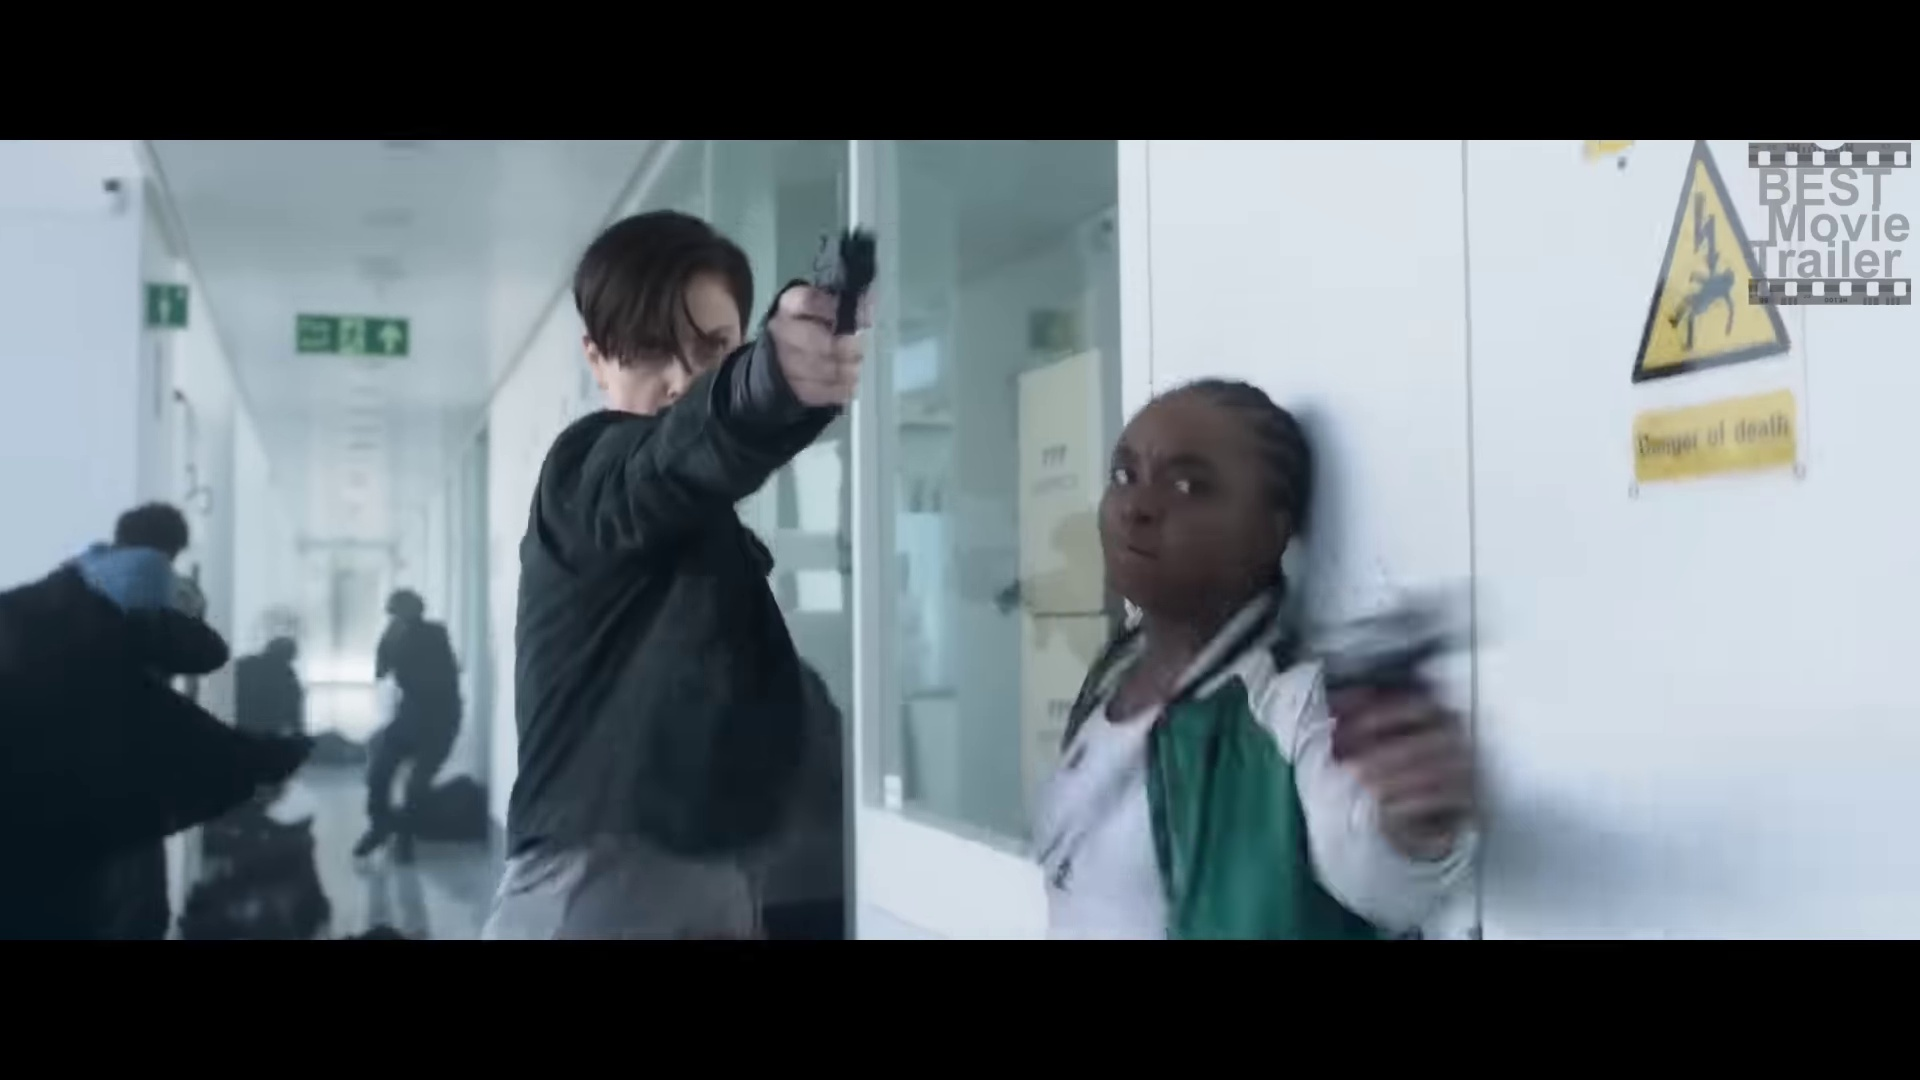gun: (802, 219, 889, 348)
p_w_gun: (498, 200, 891, 942)
p_wo_gun_acting_like_shooting: (357, 588, 463, 868)
p_wo_gun_carrying_another_object: (1010, 367, 1484, 944)
